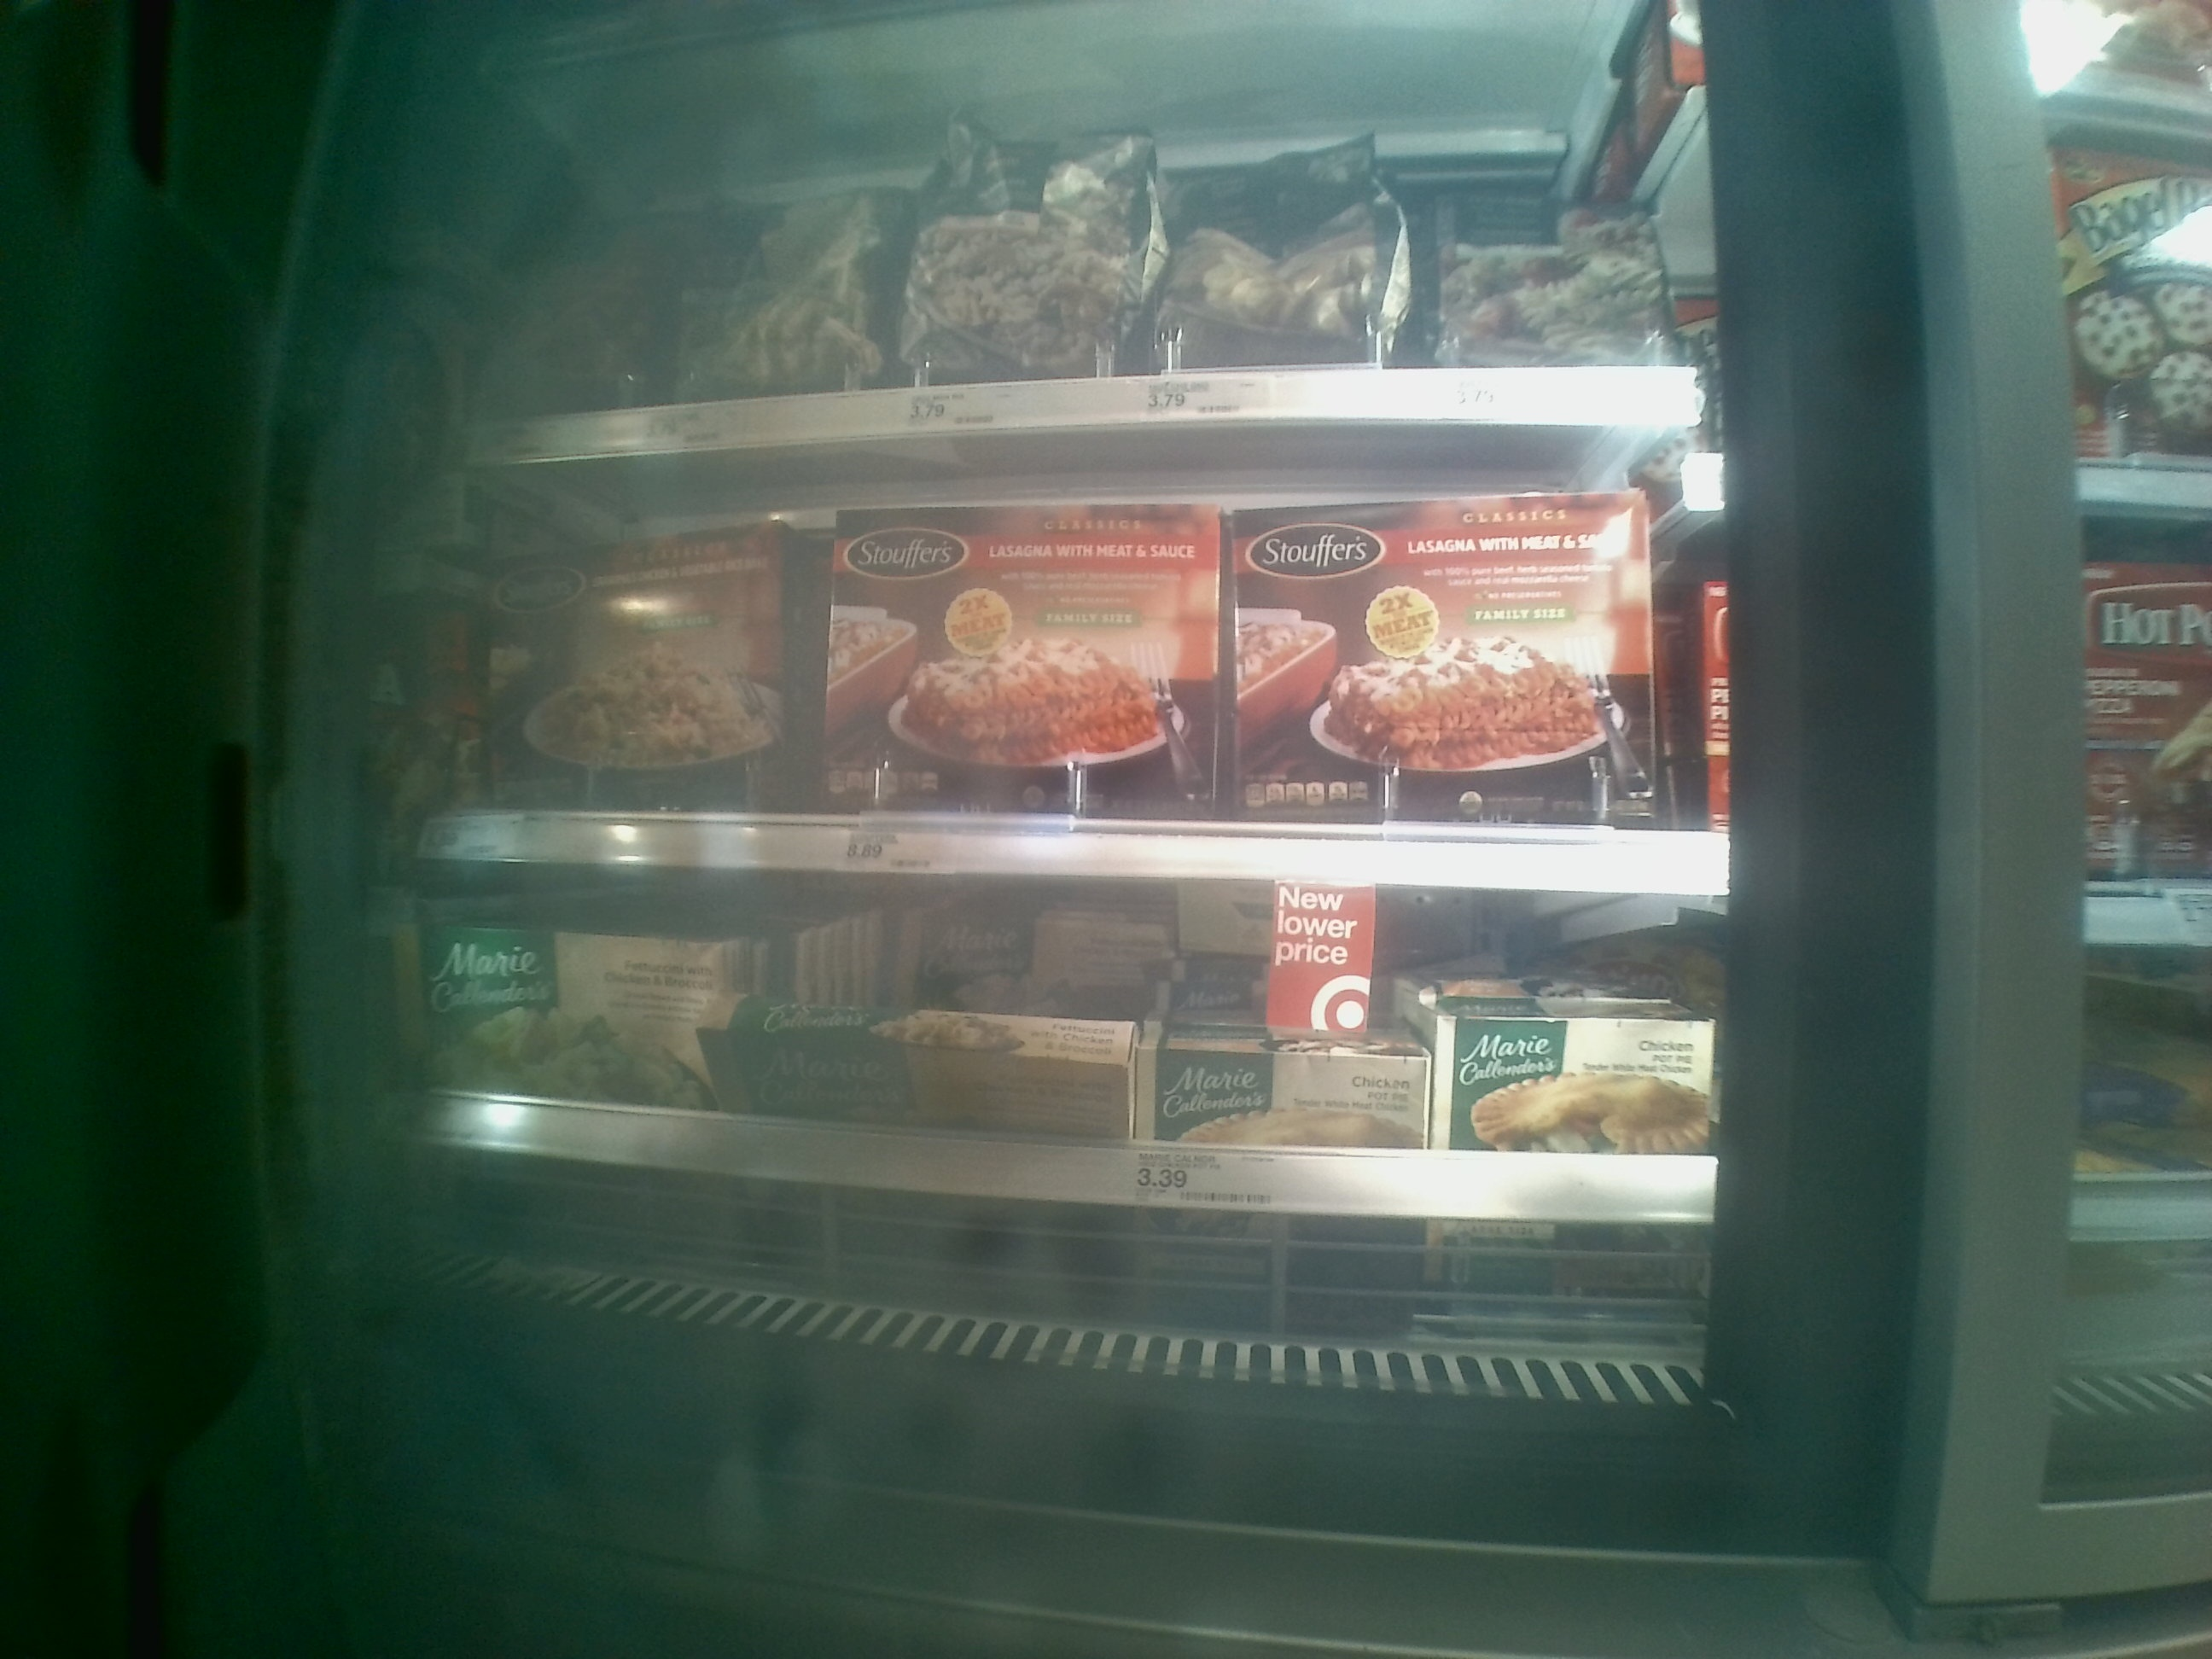shelf: (420, 854, 1731, 1349), (441, 422, 1724, 889)
